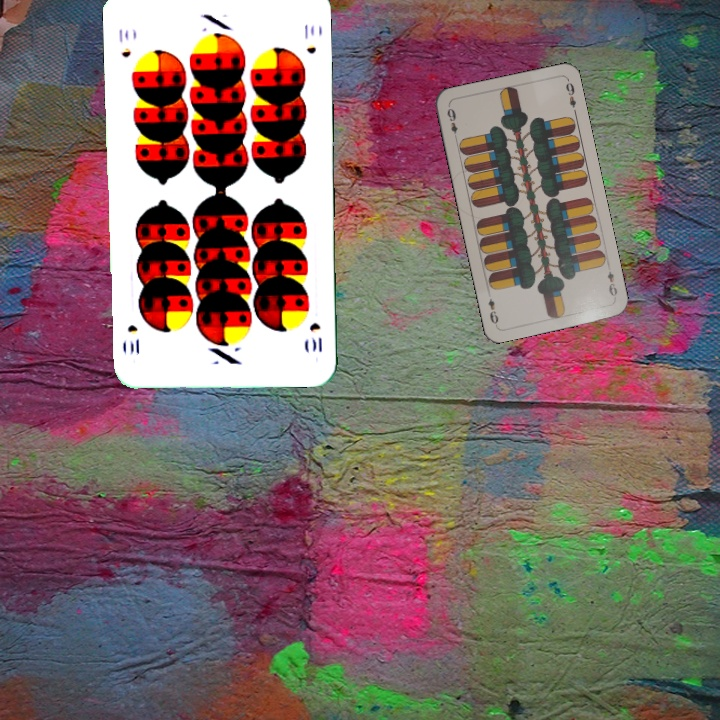E9: (443, 102, 460, 143), (603, 261, 620, 299)
S10: (306, 318, 324, 354), (115, 25, 133, 60)
